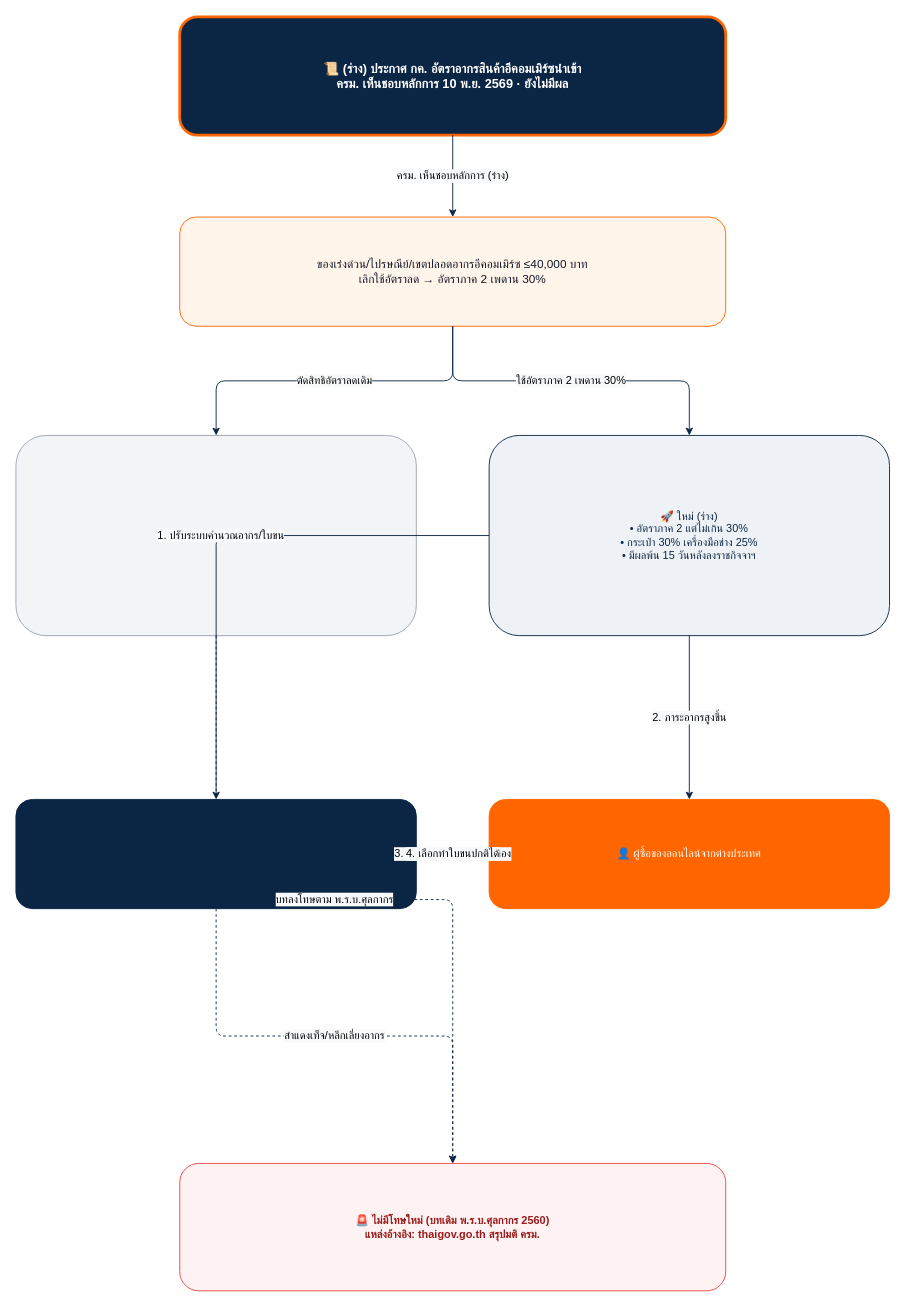
Some shapes in this 905 by 1307 pixel diagram are drawn without their labels. Each missing label, with the box of its shape:
🏛️ เดิม • ใช้อัตราลดตามประกาศ กค. 28 ธ.ค. 64 • กระเป๋า 20% เครื่องมือช่าง 10%: (15, 435, 416, 636)
🏢 แพลตฟอร์ม e-Commerce / Express: (15, 799, 416, 909)
